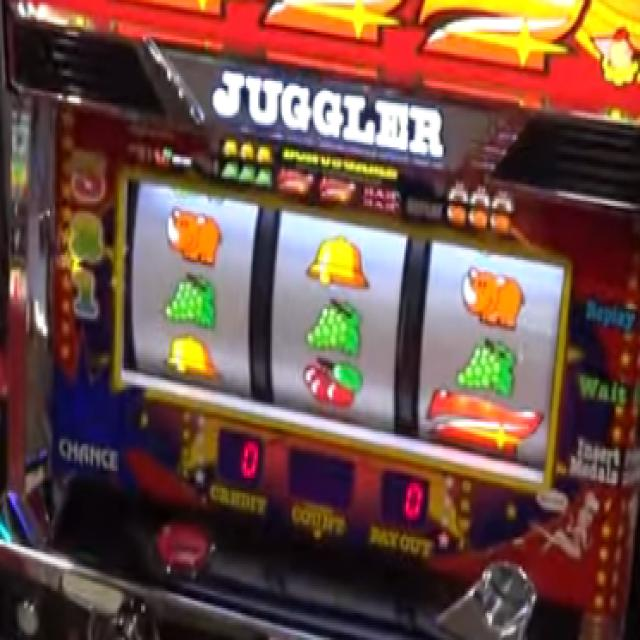bar: (363, 183, 401, 217)
bell: (303, 233, 372, 289), (164, 330, 216, 380), (254, 146, 272, 169), (222, 138, 240, 158), (238, 140, 254, 162)
cherry: (300, 358, 364, 408), (150, 145, 174, 169)
clown: (445, 180, 469, 204), (494, 187, 512, 216), (471, 183, 491, 209)
display: (130, 178, 564, 484)
elephant: (461, 263, 526, 328), (166, 203, 223, 264)
grape: (302, 297, 364, 358), (457, 339, 519, 395), (162, 272, 216, 327), (238, 163, 255, 186), (256, 167, 272, 189), (221, 160, 238, 180)
z: (425, 389, 546, 460), (276, 168, 315, 197), (319, 176, 356, 204)
